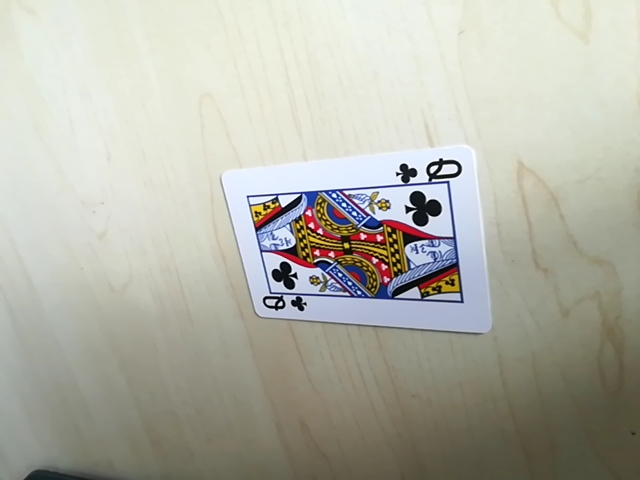mh q: (398, 157, 469, 185), (250, 290, 306, 317)
